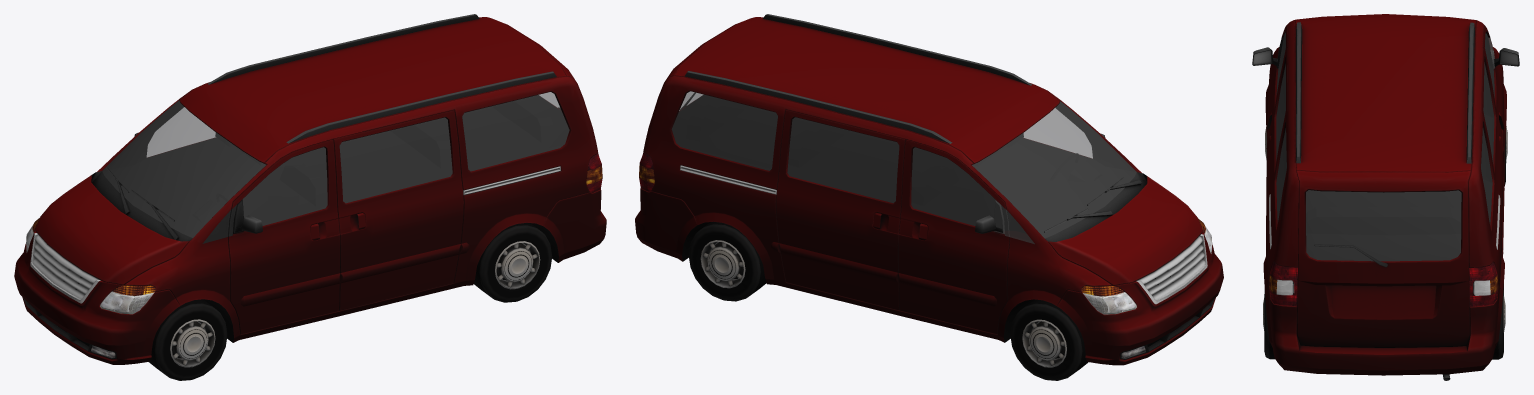
The model's file is minivan.glb.
The picture shows the model from 3 angles, left to right: view 1: azimuth 30°, elevation 25°; view 2: azimuth 150°, elevation 25°; view 3: azimuth 270°, elevation 25°; orthographic projection. The views are drawn at different scales.
Visible parts, largest first — view 1: minivan; view 2: minivan; view 3: minivan.
Boxes of the visible parts, x1,y1,x2,y2 form: minivan: (14, 14, 606, 380); minivan: (635, 14, 1223, 380); minivan: (1252, 14, 1519, 380).
Size of the model in its own units: 4.9 by 1.87 by 1.99.
Materials: 4 (3 with a texture image).
